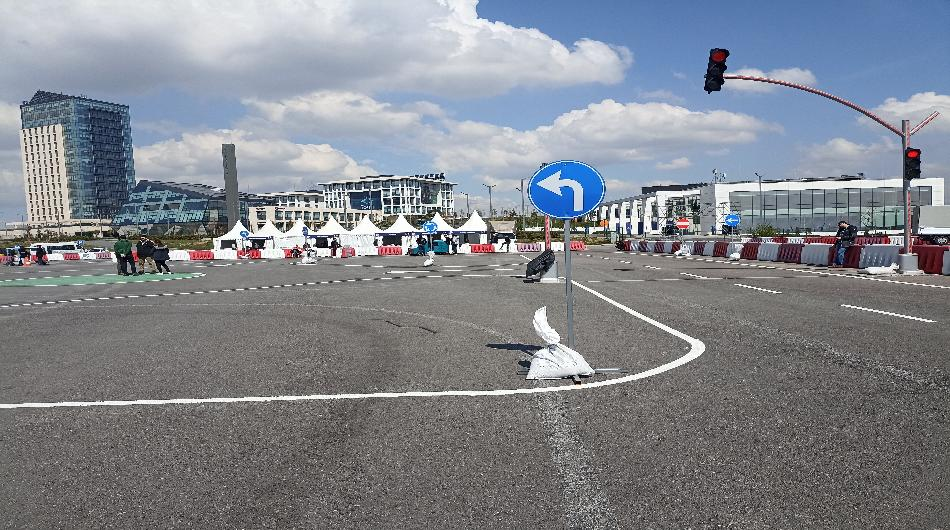ada: (423, 219, 445, 236)
red_light: (704, 45, 734, 94), (904, 149, 926, 180)
sola_mecburi_2: (526, 155, 609, 218)
